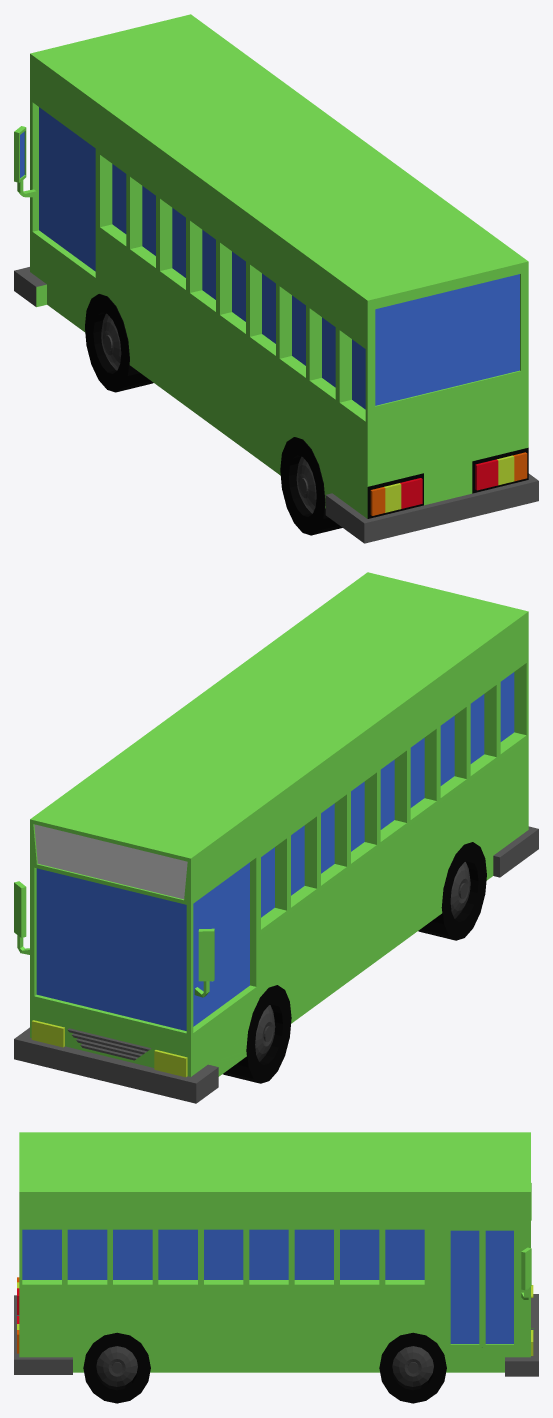
Rendered from busGreen.glb.
3 views of the same model, one above another, from view 1: azimuth 30°, elevation 25°; view 2: azimuth 150°, elevation 25°; view 3: azimuth 270°, elevation 25° (orthographic). The views are drawn at different scales.
Visible parts, largest first — view 1: Bus1; view 2: Bus1; view 3: Bus1.
Part boxes in pixels (box(x1,y1,x2,y2)): Bus1: box(14, 14, 538, 543); Bus1: box(14, 572, 538, 1103); Bus1: box(14, 1132, 538, 1403).
Bounding box in the file's own units: 12 × 16 × 36.
